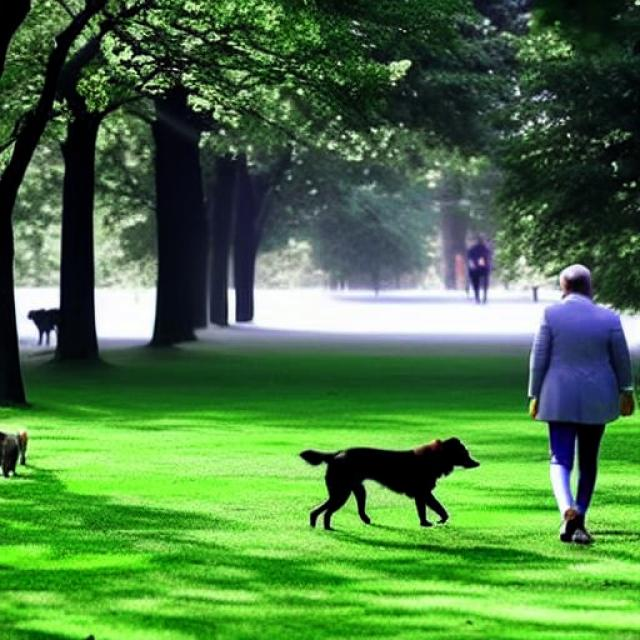Unleashed_Dog: (300, 426, 602, 533)
